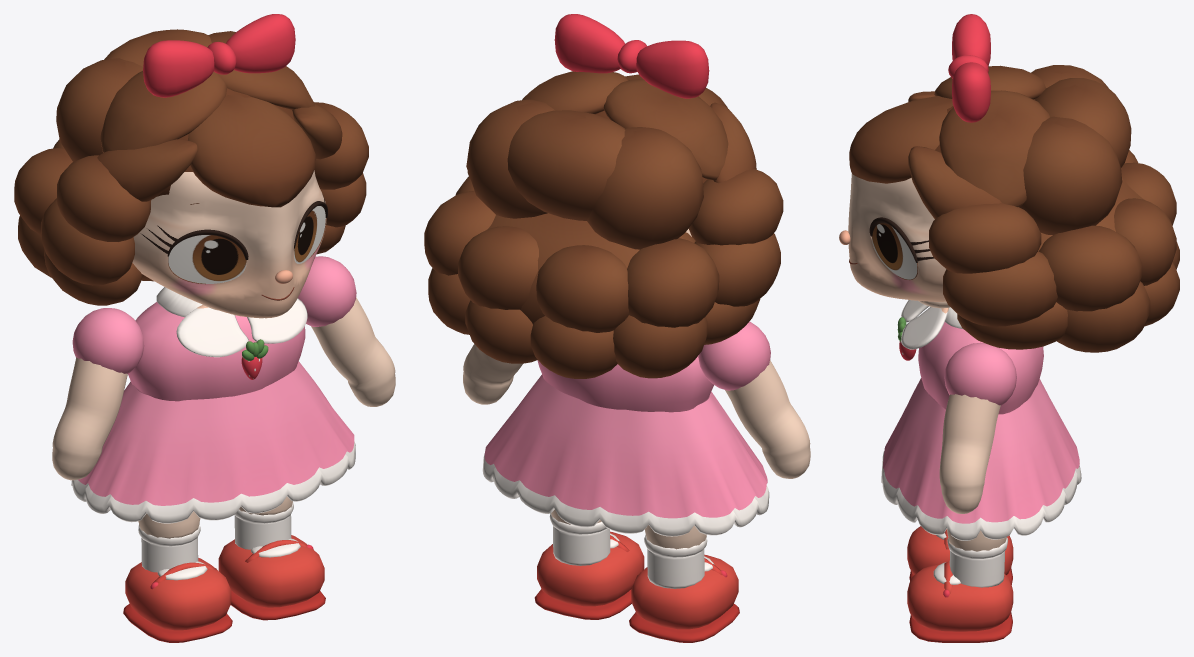
File: rosie-toy.glb
The picture shows the model from 3 angles, left to right: view 1: azimuth 30°, elevation 25°; view 2: azimuth 150°, elevation 25°; view 3: azimuth 270°, elevation 25°; orthographic projection. The views are drawn at different scales.
Parts seen in each view (by area): view 1: Rosie_hair, Rosie_skirt, Rosie_head, Rosie_dress, Rosie_leg_R, Rosie_arm_R, Rosie_leg_L, Rosie_arm_L, Rosie_eye_R, Rosie_eye_L; view 2: Rosie_hair, Rosie_skirt, Rosie_leg_R, Rosie_arm_R, Rosie_leg_L, Rosie_dress, Rosie_arm_L; view 3: Rosie_hair, Rosie_skirt, Rosie_leg_L, Rosie_arm_L, Rosie_head, Rosie_dress, Rosie_leg_R, Rosie_eye_L.
Boxes of the visible parts, x1,y1,x2,y2 form: Rosie_hair: [14, 14, 368, 305]; Rosie_skirt: [71, 361, 355, 523]; Rosie_head: [132, 170, 327, 318]; Rosie_dress: [128, 287, 307, 401]; Rosie_leg_R: [123, 511, 232, 642]; Rosie_arm_R: [52, 308, 144, 480]; Rosie_leg_L: [218, 496, 325, 620]; Rosie_arm_L: [298, 256, 395, 406]; Rosie_eye_R: [168, 235, 246, 283]; Rosie_eye_L: [294, 206, 325, 263]; Rosie_hair: [424, 14, 783, 378]; Rosie_skirt: [482, 374, 769, 536]; Rosie_leg_R: [629, 525, 739, 642]; Rosie_arm_R: [698, 321, 810, 478]; Rosie_leg_L: [534, 509, 644, 619]; Rosie_dress: [537, 355, 713, 412]; Rosie_arm_L: [463, 344, 522, 404]; Rosie_hair: [849, 14, 1179, 352]; Rosie_skirt: [881, 378, 1081, 540]; Rosie_leg_L: [907, 528, 1013, 642]; Rosie_arm_L: [939, 342, 1016, 513]; Rosie_head: [839, 173, 950, 308]; Rosie_dress: [897, 300, 1043, 414]; Rosie_leg_R: [907, 526, 1013, 584]; Rosie_eye_L: [872, 223, 917, 279].
Bounding box in the file's own units: 0.7834 × 1.28 × 0.7031.
Materials: 1 (1 with a texture image).
